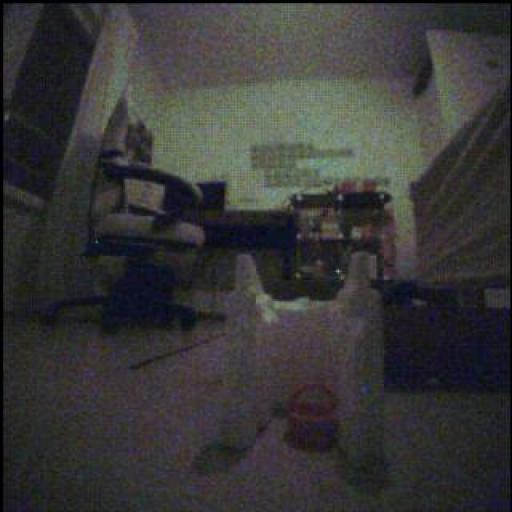basket: (289, 385, 339, 452), (339, 180, 358, 195), (363, 180, 379, 193)
